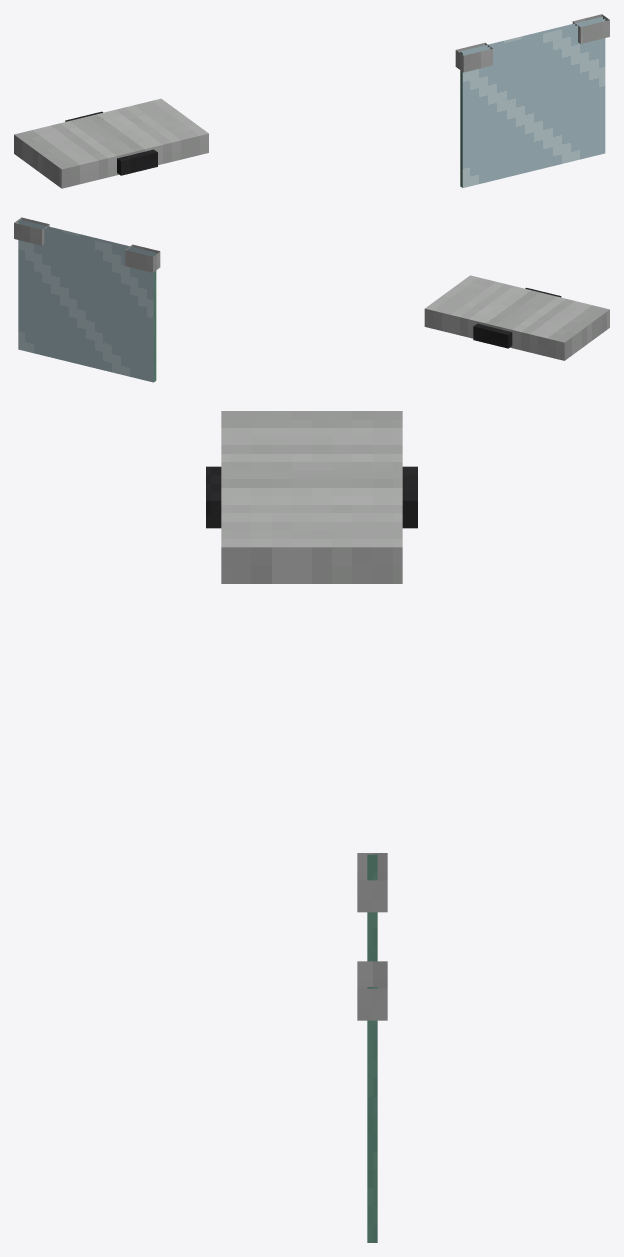
File: auto_door_tele_slider_frameless_c2_upper_right_open.obj
3 renders of one model, top to bottom at view 1: azimuth 30°, elevation 25°; view 2: azimuth 150°, elevation 25°; view 3: azimuth 270°, elevation 25°, orthographic. The views are drawn at different scales.
Parts seen in each view (by area): view 1: auto_door_tele_slider_frameless_c2_upper_right_open; view 2: auto_door_tele_slider_frameless_c2_upper_right_open; view 3: auto_door_tele_slider_frameless_c2_upper_right_open.
Part boxes in pixels (<box>): auto_door_tele_slider_frameless_c2_upper_right_open: <box>14,14,609,188</box>; auto_door_tele_slider_frameless_c2_upper_right_open: <box>14,217,609,382</box>; auto_door_tele_slider_frameless_c2_upper_right_open: <box>206,411,417,1242</box>.
Size of the model in its own units: 3.97 by 1 by 0.6562.
